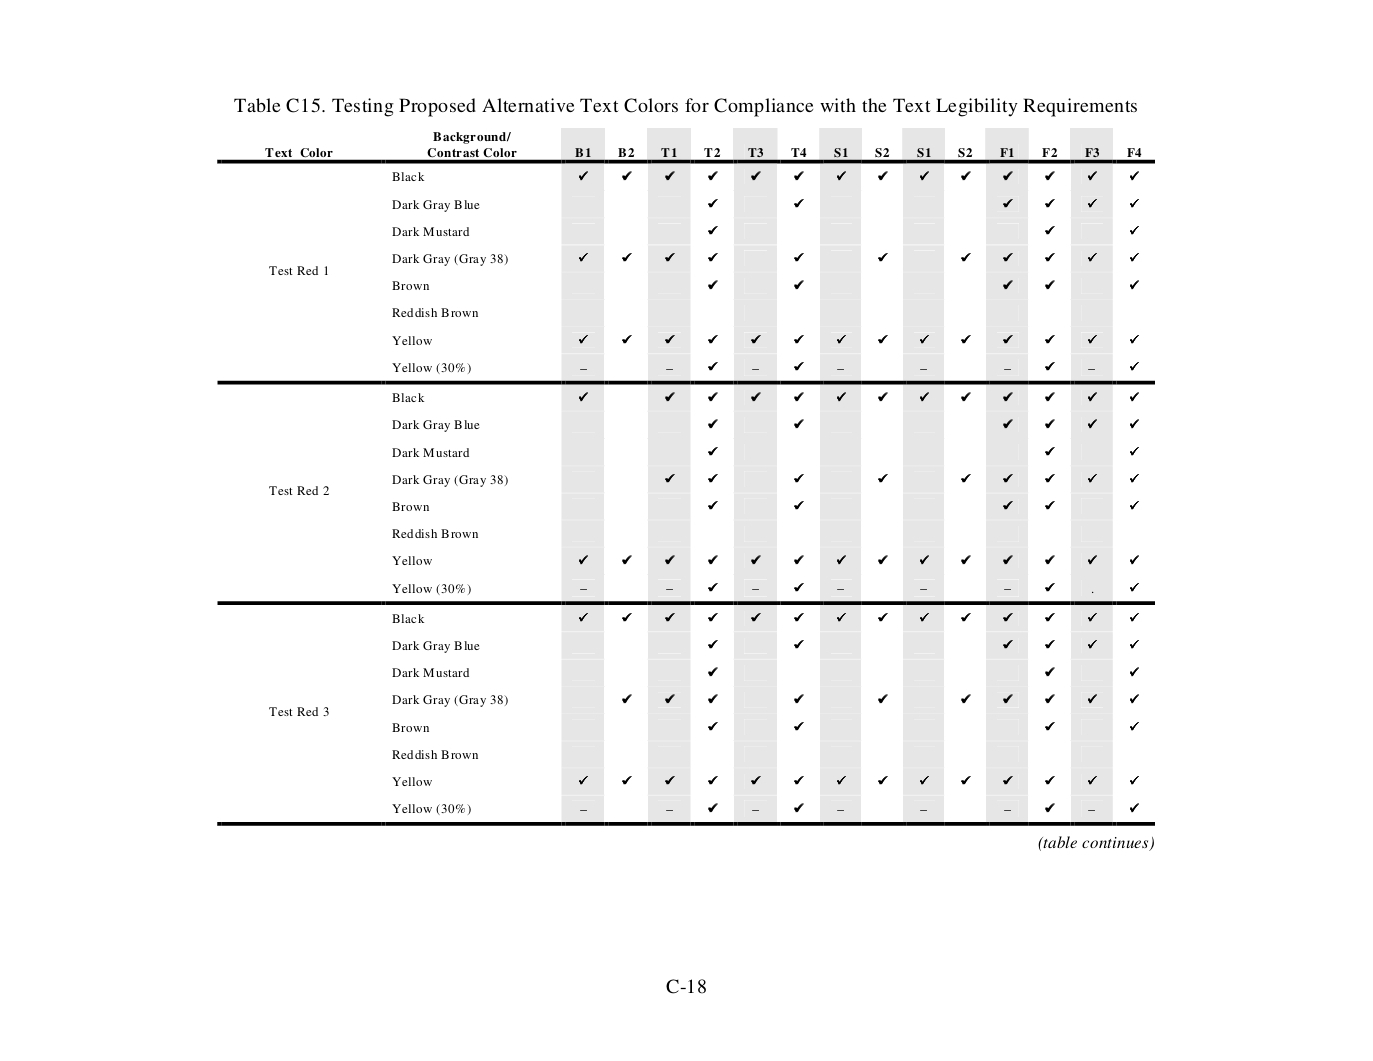Table: (217, 127, 1153, 826)
